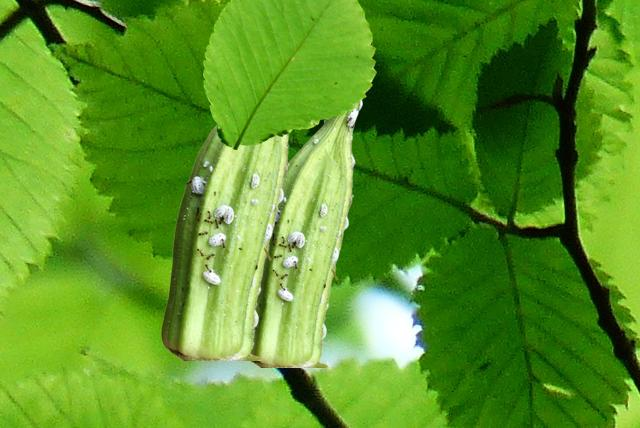okra: (246, 100, 363, 366), (161, 125, 291, 359)
